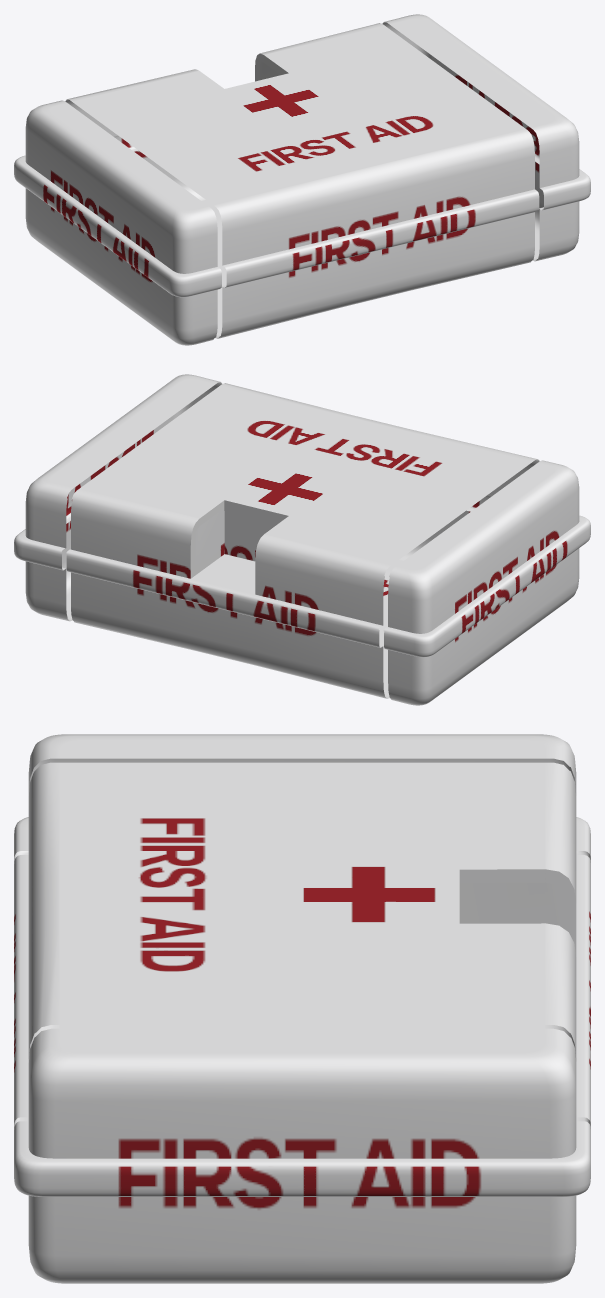
The model's file is myjjb.FBX.
3 views of the same model, one above another, from view 1: azimuth 30°, elevation 25°; view 2: azimuth 150°, elevation 25°; view 3: azimuth 270°, elevation 25° (orthographic). The views are drawn at different scales.
Visible parts, largest first — view 1: Box009; view 2: Box009; view 3: Box009.
Boxes of the visible parts, x1,y1,x2,y2 form: Box009: [14, 14, 590, 345]; Box009: [14, 374, 590, 705]; Box009: [14, 734, 590, 1283].
Bounding box in the file's own units: 0.2182 × 0.0651 × 0.1514.
